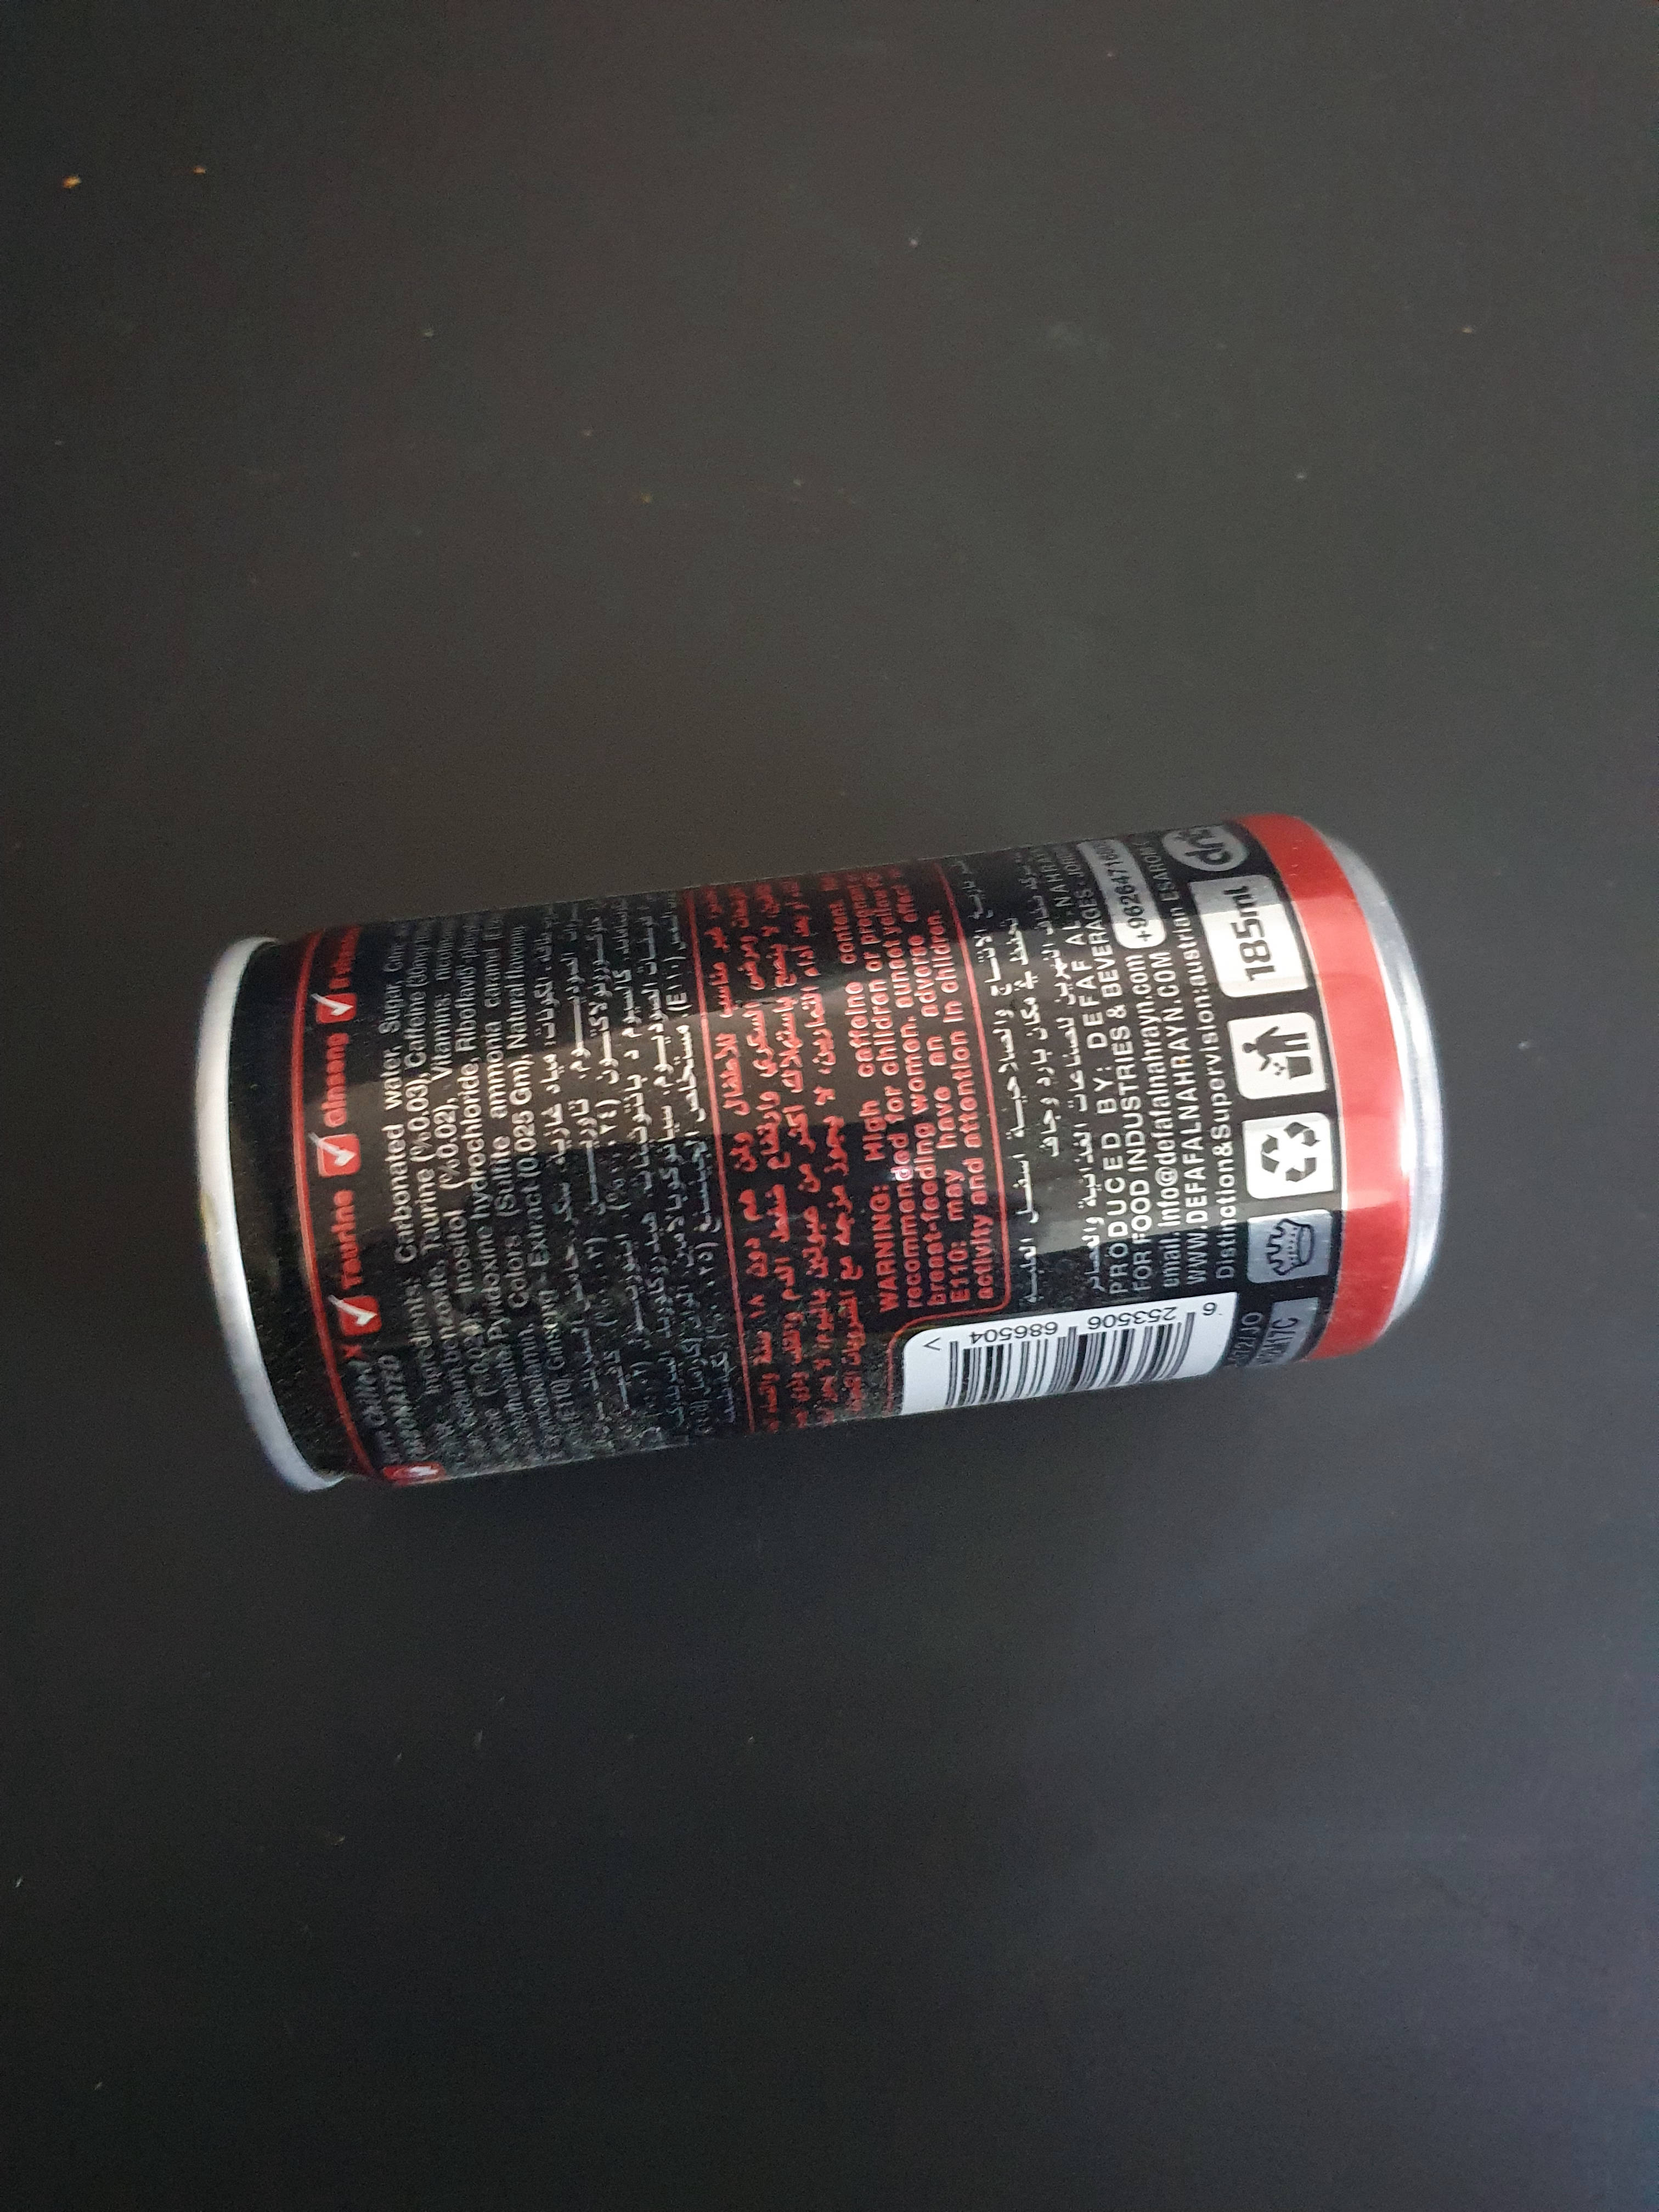metal: (143, 751, 1483, 1566)
